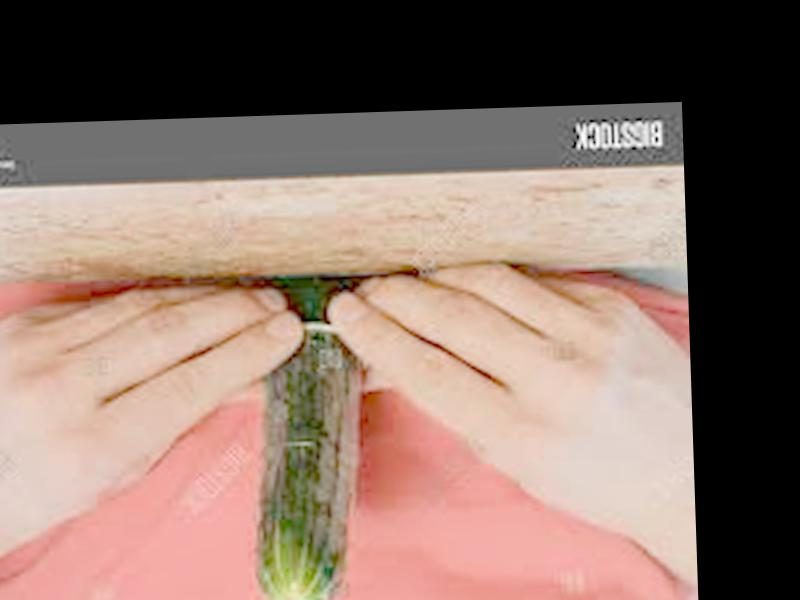Cucumber: (245, 277, 368, 600)
